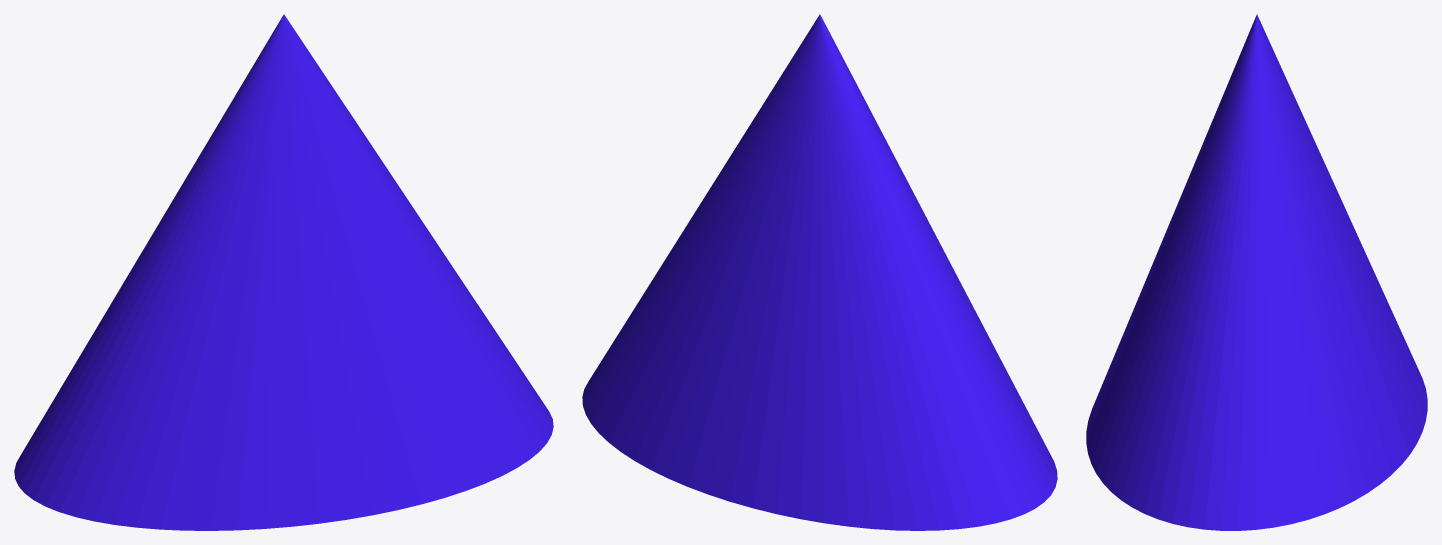
Rendered from Class Demo.glb.
3 views of the same model, side by side, from view 1: azimuth 30°, elevation 25°; view 2: azimuth 150°, elevation 25°; view 3: azimuth 270°, elevation 25° (orthographic). The views are drawn at different scales.
Visible parts, largest first — view 1: Cone; view 2: Cone; view 3: Cone.
Part boxes in pixels (x1,y1,x2,y2): Cone: [14, 14, 553, 530]; Cone: [582, 14, 1057, 530]; Cone: [1086, 14, 1427, 530].
Bounding box in the file's own units: 4.08 × 3.53 × 2.68.
